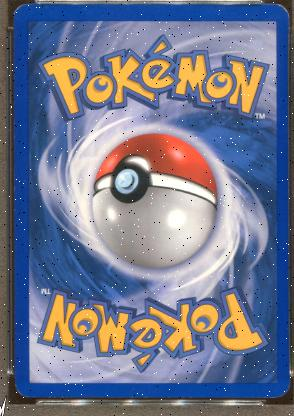Card: (11, 0, 291, 402)
Corner Wear: (14, 384, 36, 398), (275, 2, 288, 18)
Edge Wear: (47, 396, 70, 398), (128, 396, 148, 398), (13, 166, 14, 194), (13, 119, 14, 140)
